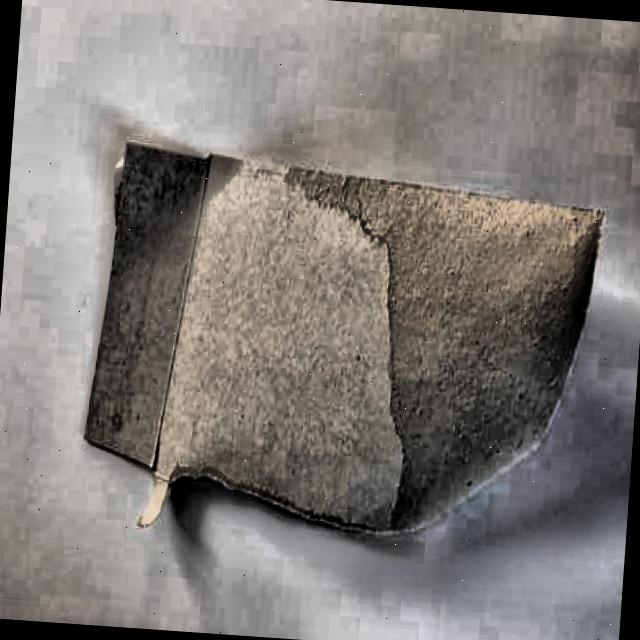paper: (76, 124, 612, 554)
